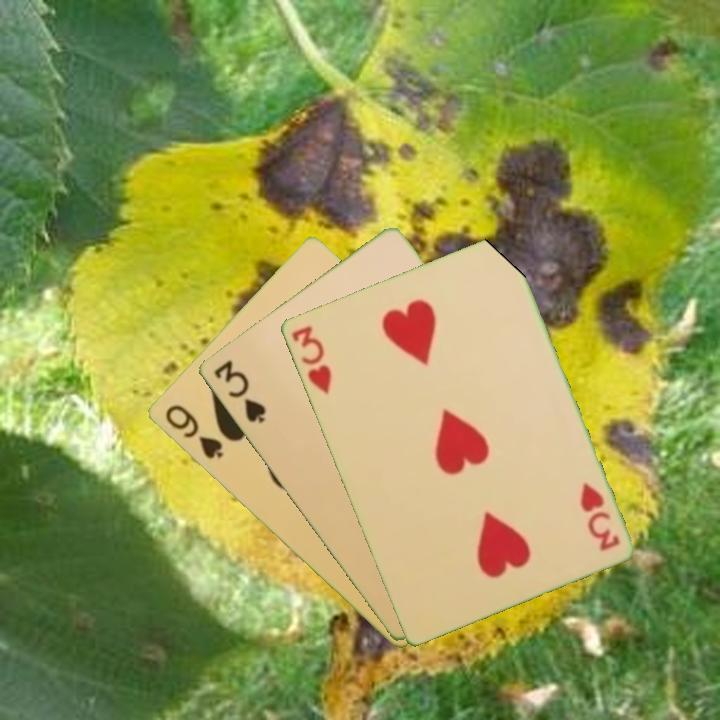3h: (287, 322, 334, 397), (576, 479, 622, 554)
3s: (209, 356, 269, 426)
9s: (161, 401, 226, 462)
